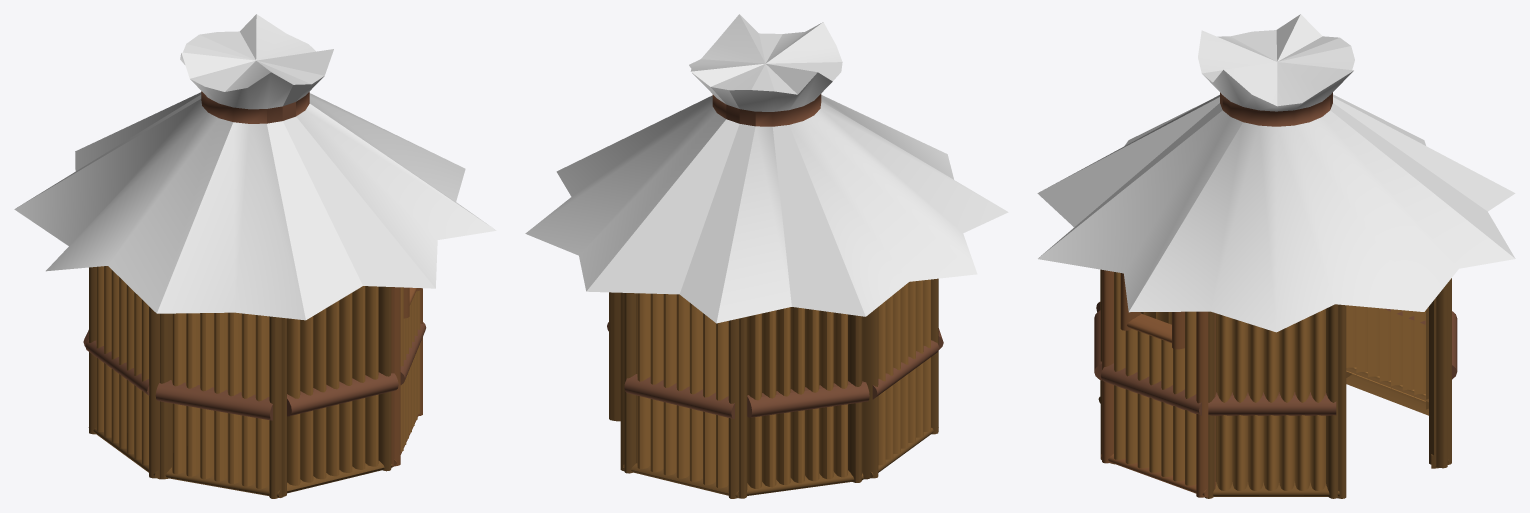
The model's file is House_asset.fbx.
3 views of the same model, side by side, from view 1: azimuth 30°, elevation 25°; view 2: azimuth 150°, elevation 25°; view 3: azimuth 270°, elevation 25° (orthographic). The views are drawn at different scales.
Visible parts, largest first — view 1: Cylinder.013; view 2: Cylinder.013; view 3: Cylinder.013.
Boxes of the visible parts, left/top/right/bottom form: Cylinder.013: left=14, top=14, right=496, bottom=498; Cylinder.013: left=525, top=14, right=1008, bottom=498; Cylinder.013: left=1037, top=14, right=1515, bottom=498.
Size of the model in its own units: 449 by 393 by 427.
